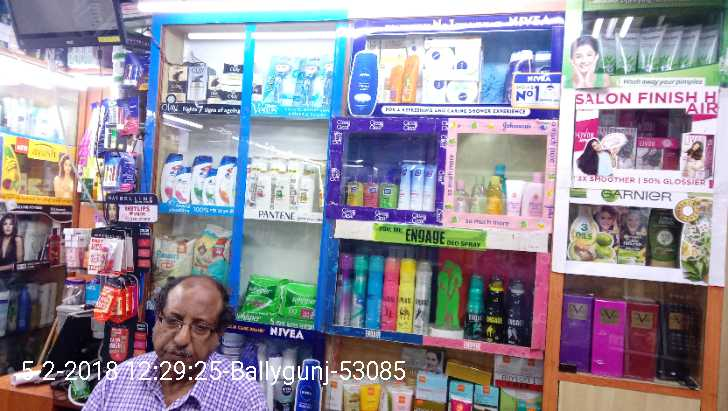venus: (267, 58, 293, 103), (293, 58, 316, 105), (316, 58, 336, 105)
